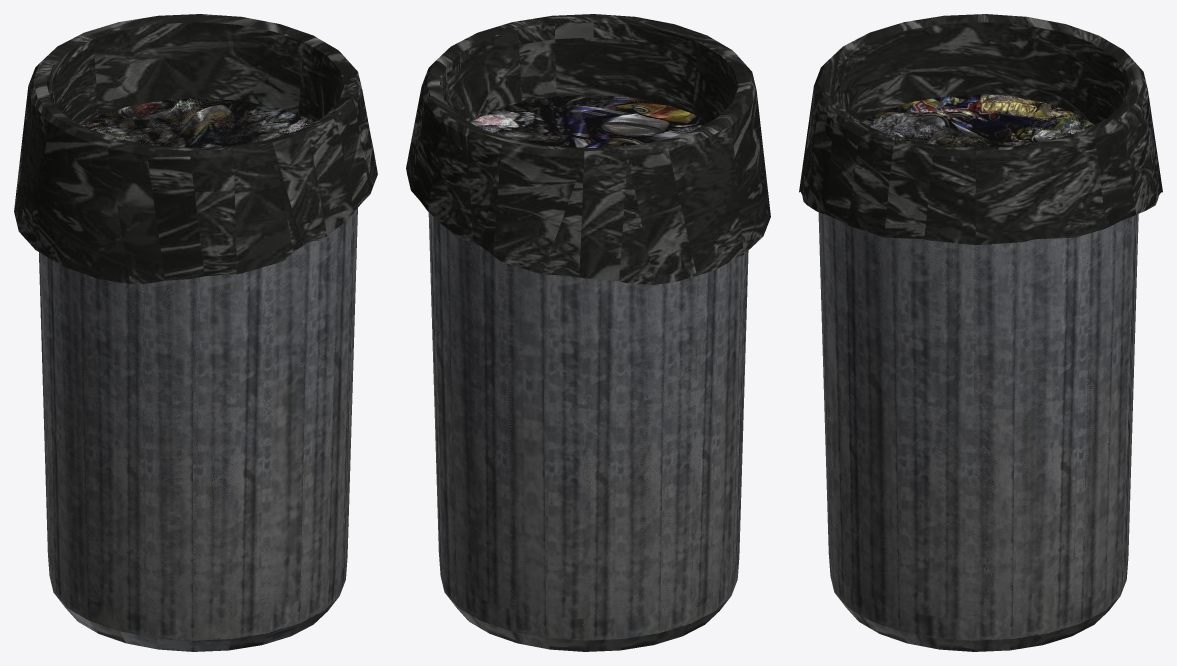
The model's file is Bin.fbx.
3 renders of one model, left to right at view 1: azimuth 30°, elevation 25°; view 2: azimuth 150°, elevation 25°; view 3: azimuth 270°, elevation 25°, orthographic.
Visible parts, largest first — view 1: Group1; view 2: Group1; view 3: Group1.
Boxes of the visible parts, left/top/right/bottom form: Group1: left=14, top=14, right=377, bottom=651; Group1: left=406, top=14, right=770, bottom=651; Group1: left=799, top=14, right=1162, bottom=651.
Bounding box in the file's own units: 23.6 × 36.59 × 23.6.
